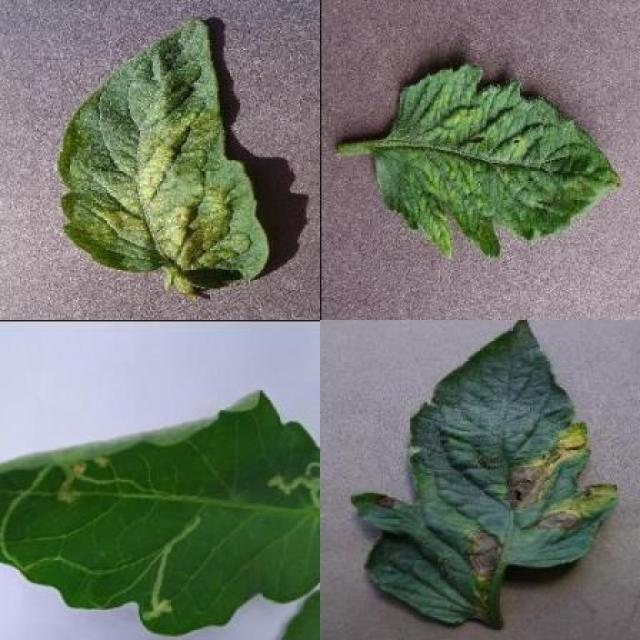Early Blight: (349, 320, 617, 631)
Leaf Miner: (0, 390, 320, 636)
Mosaic Virus: (372, 65, 622, 262)
Spider Mites: (59, 17, 270, 290)
